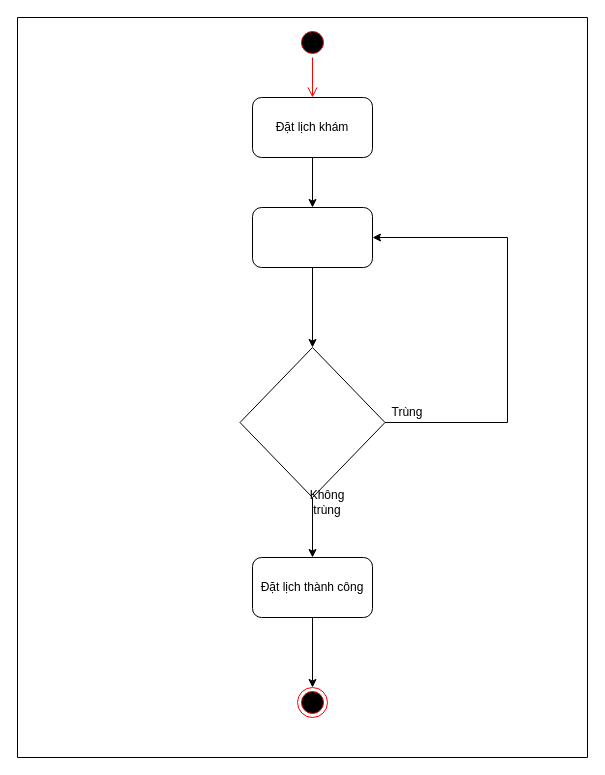
This 605x775 diagram has some shape labels left out. Each missing label, with the centre of its shape:
"Chọn thời gian và bác sĩ" belongs at point (312, 237).
"thời gian và bác sĩ trùng" belongs at point (312, 422).
